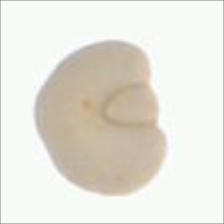L5: (97, 80, 163, 134), (32, 86, 53, 143)
L6: (31, 37, 170, 198)
